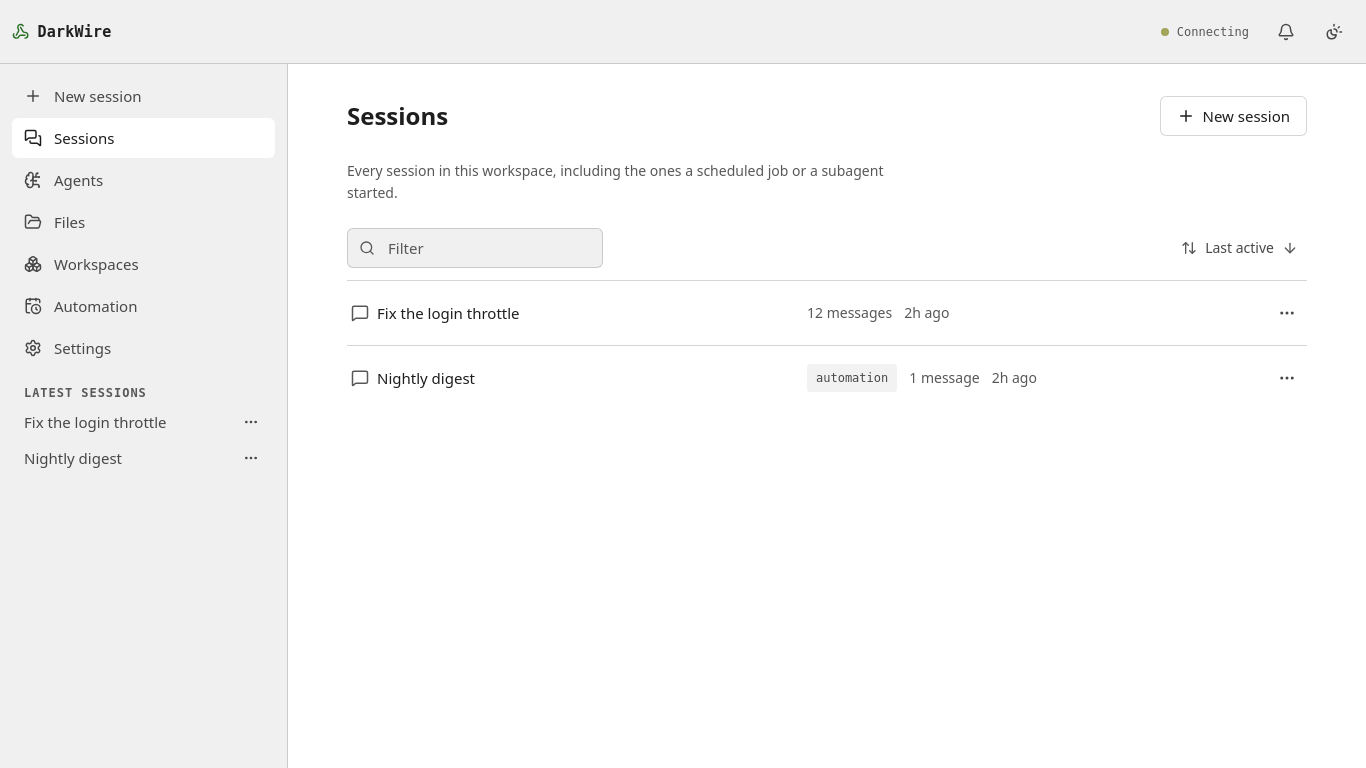
Scenario: acting on a session › leaves the socket alone when it deleted some other session
Expected: the link with aria-label "Open Fix the login throttle" is shown, [351, 303, 520, 323]
Click the button named "Actions for Fix the login throttle" in the row of "12 messages" at (1287, 313), box [1267, 293, 1307, 333]
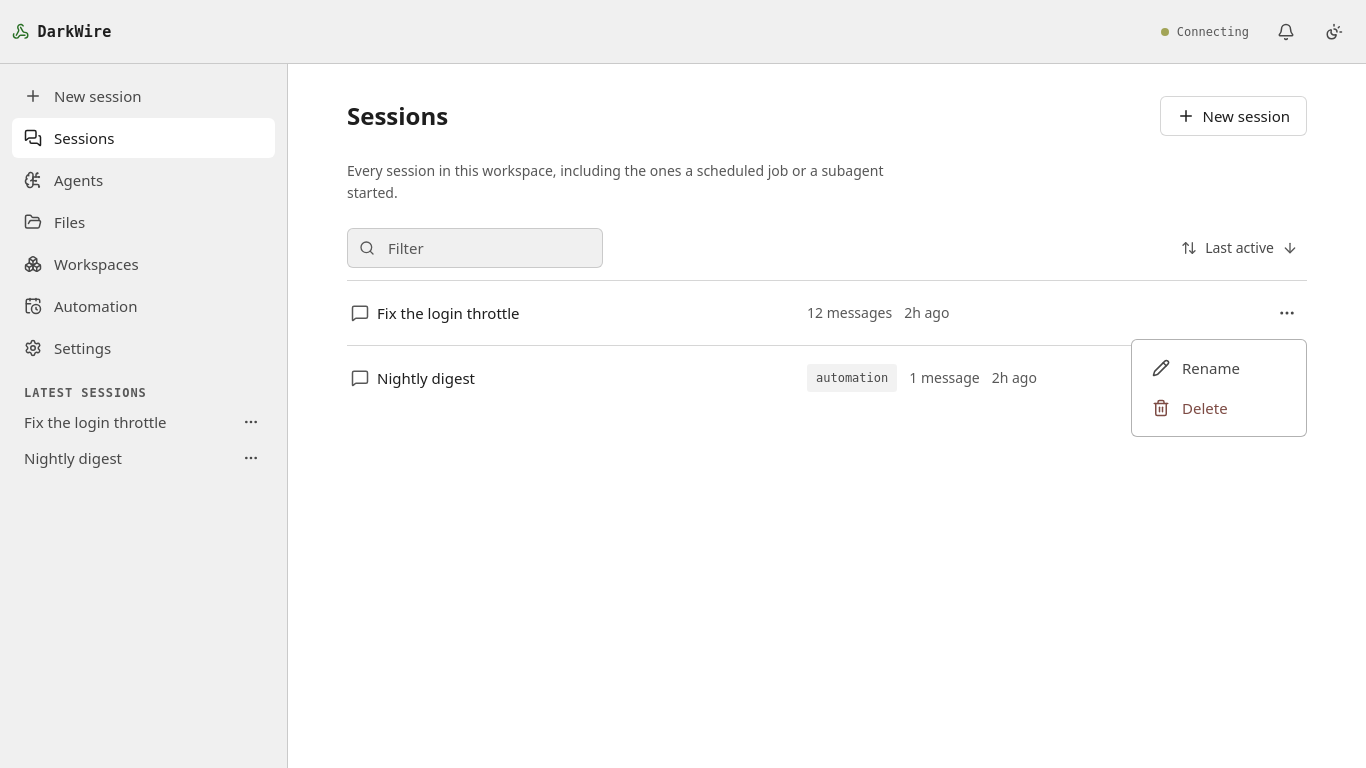
Click the menu item "Delete" at (1190, 408), box [1152, 398, 1228, 418]
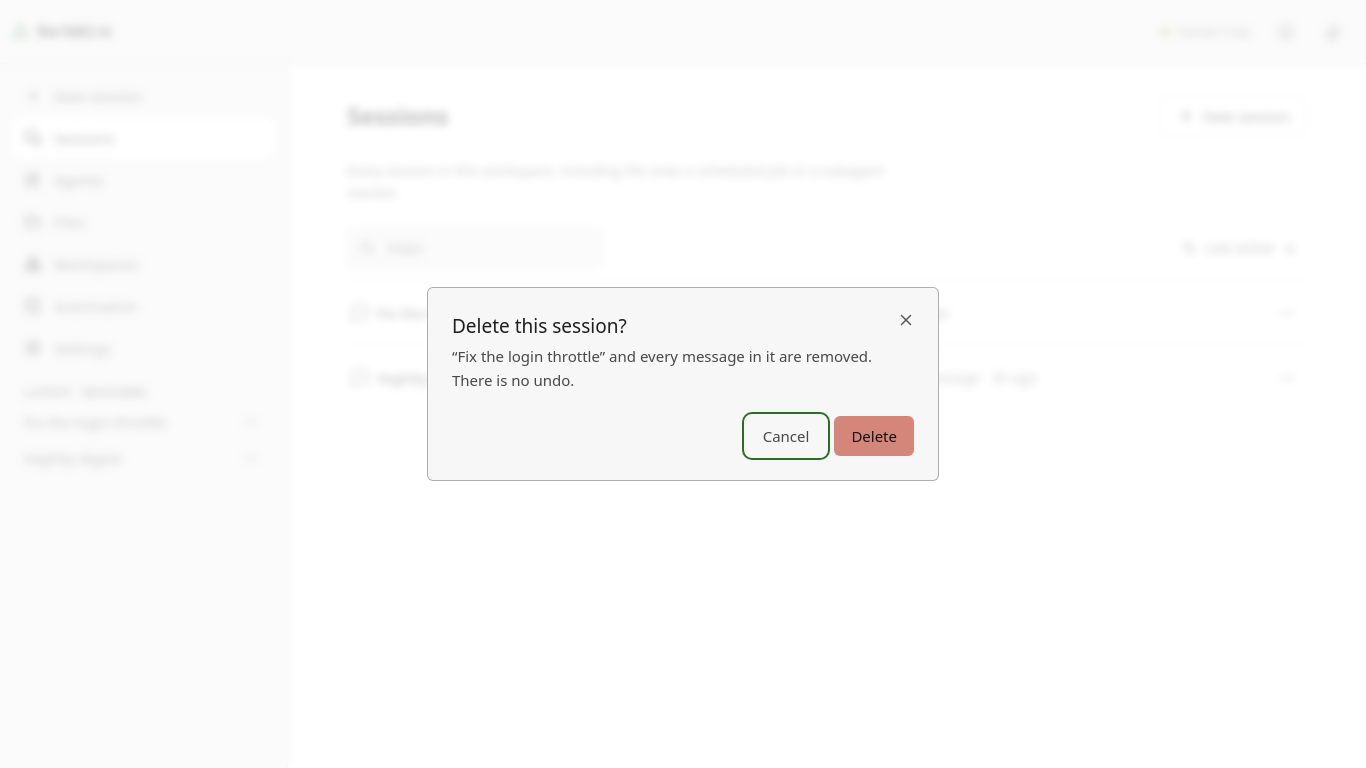
Click the button "Delete" at (874, 436), box [834, 416, 914, 456]
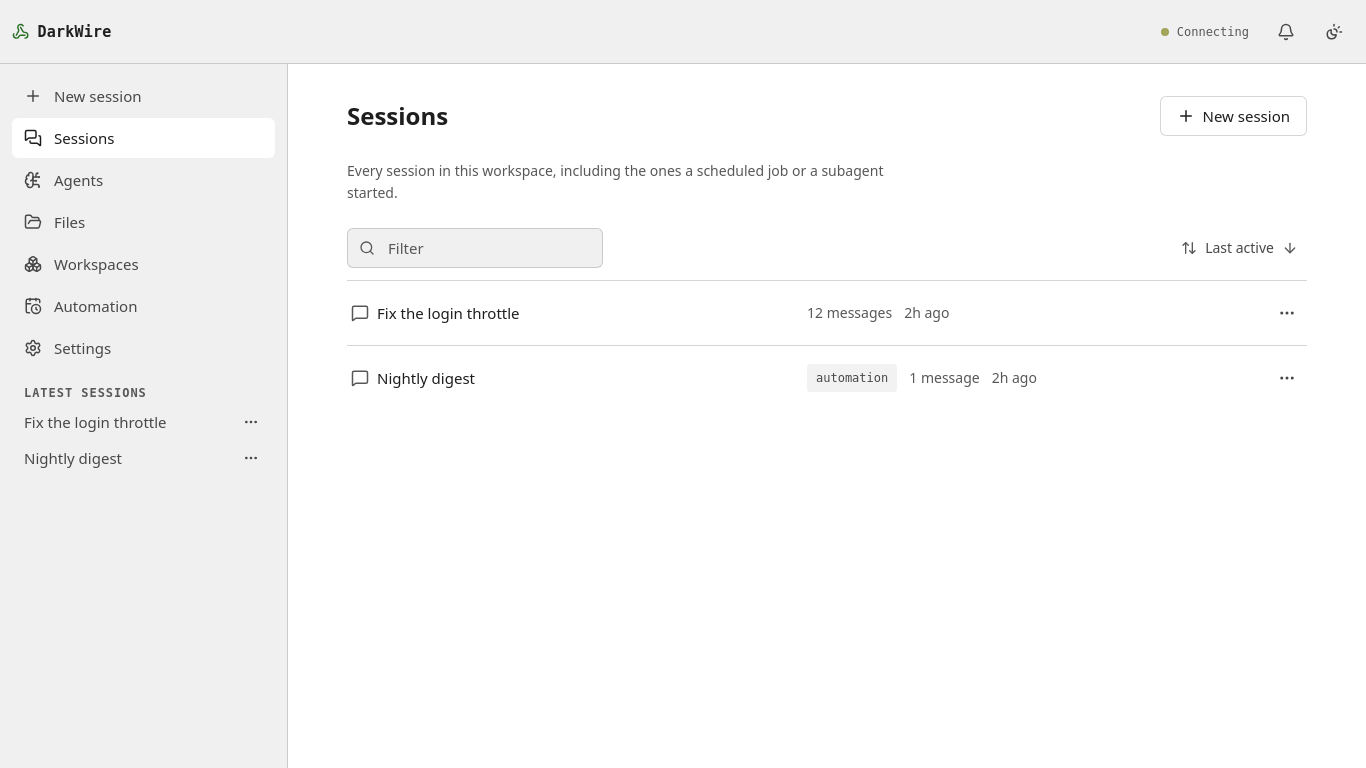
Expected: the dialog is gone
